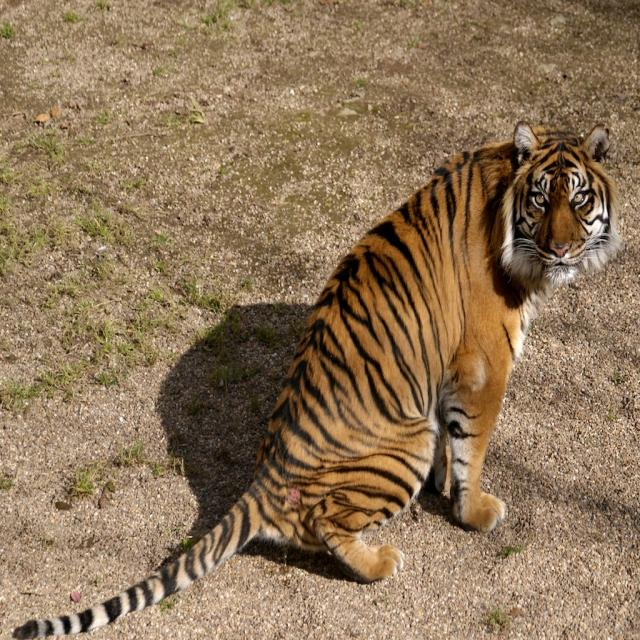Tiger: (16, 119, 618, 639)
